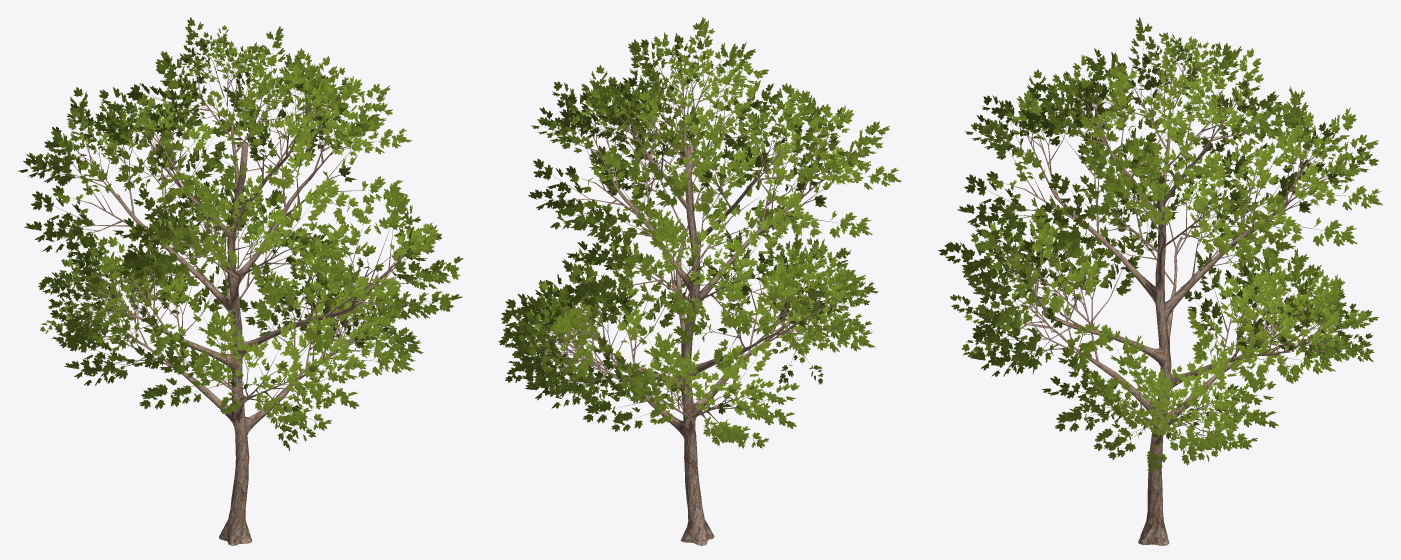
Rendered from maple3.obj.
3 views of the same model, side by side, from view 1: azimuth 30°, elevation 25°; view 2: azimuth 150°, elevation 25°; view 3: azimuth 270°, elevation 25° (orthographic). The views are drawn at different scales.
Parts seen in each view (by area): view 1: leaf maple, bark02; view 2: leaf maple, bark02; view 3: leaf maple, bark02.
Part boxes in pixels (x1=…): leaf maple: x1=18, y1=17, x2=463, y2=450; bark02: x1=39, y1=39, x2=441, y2=545; leaf maple: x1=498, y1=17, x2=901, y2=448; bark02: x1=514, y1=38, x2=878, y2=545; leaf maple: x1=938, y1=17, x2=1382, y2=473; bark02: x1=973, y1=35, x2=1360, y2=545.
Bounding box in the file's own units: 604 × 808 × 651.
Materials: 2 (2 with a texture image).
